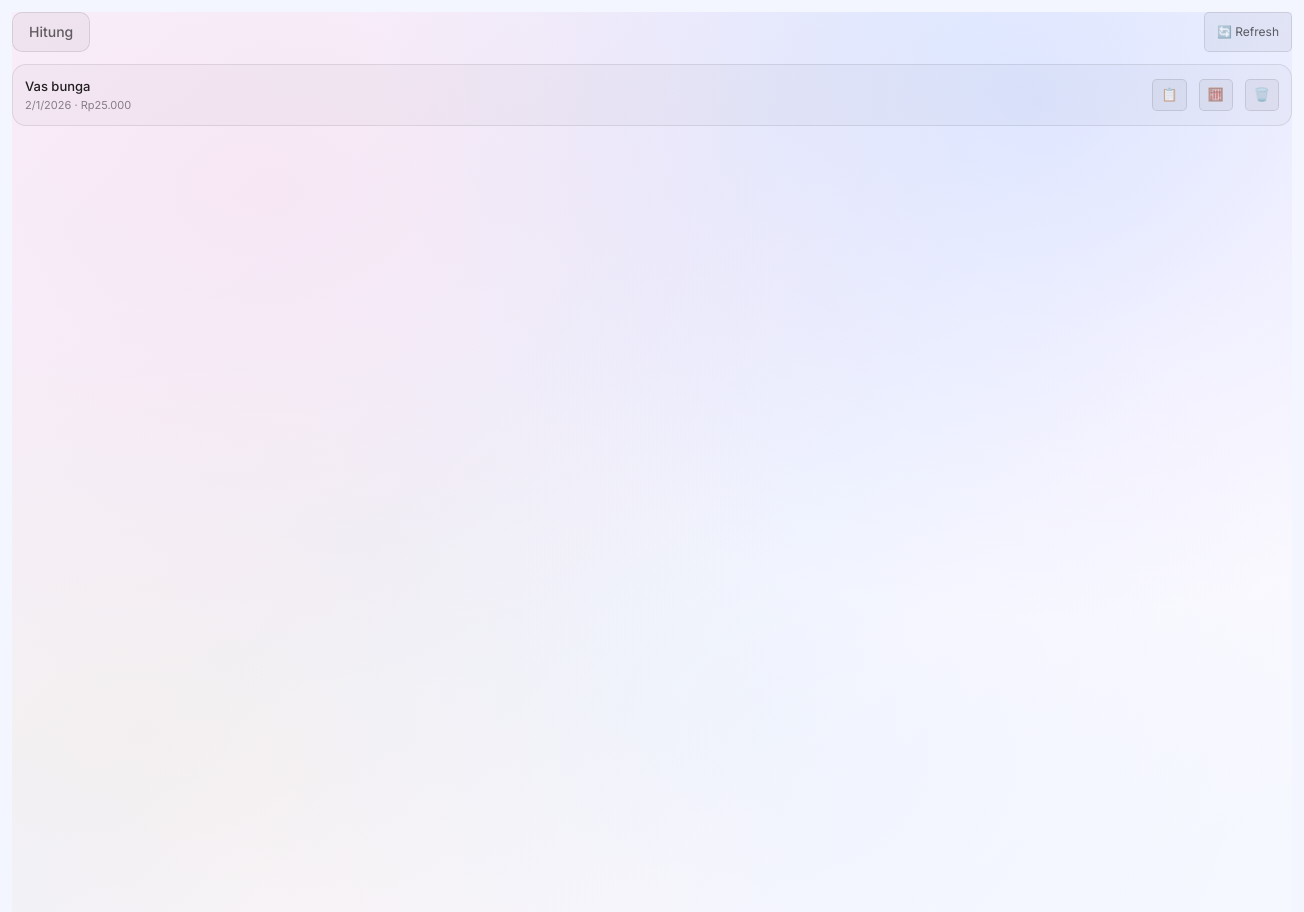
it: RiwayatList: Duplikat & Hitung ulang › Hitung ulang: putKalkulasi ditolak → pesan error, list tak di-refresh
Expected: the text "Vas bunga" is shown, [25,78,90,94]
Click the button named "Hitung ulang" at (1216, 95), box [1199,79,1233,111]
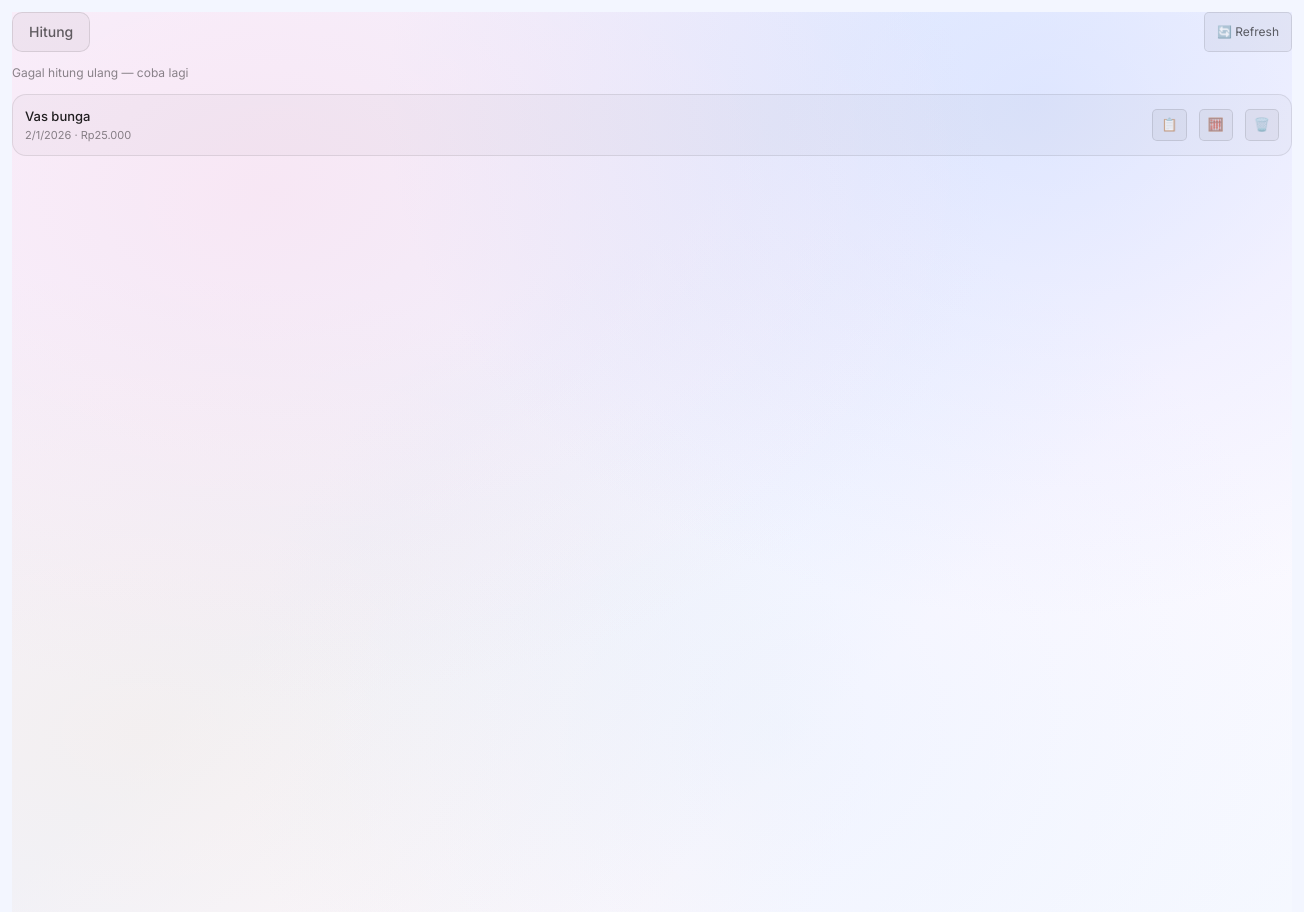
Expected: the text "Gagal hitung ulang — coba lagi" is shown, [12,65,188,80]
